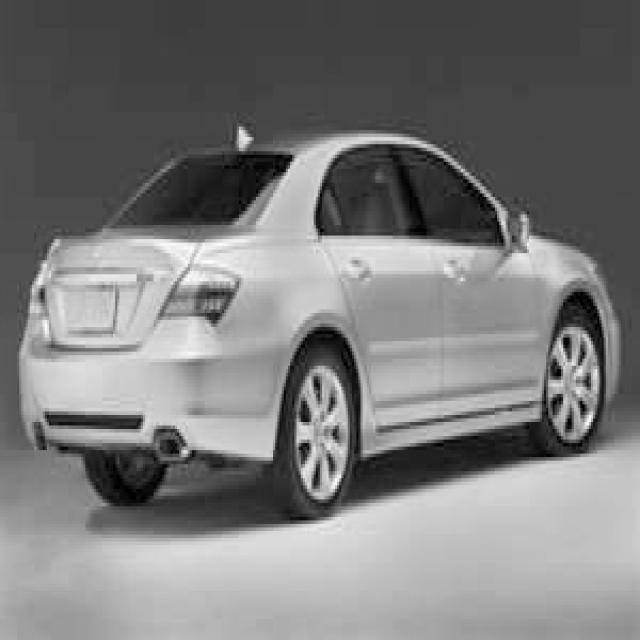car: (17, 120, 621, 520)
